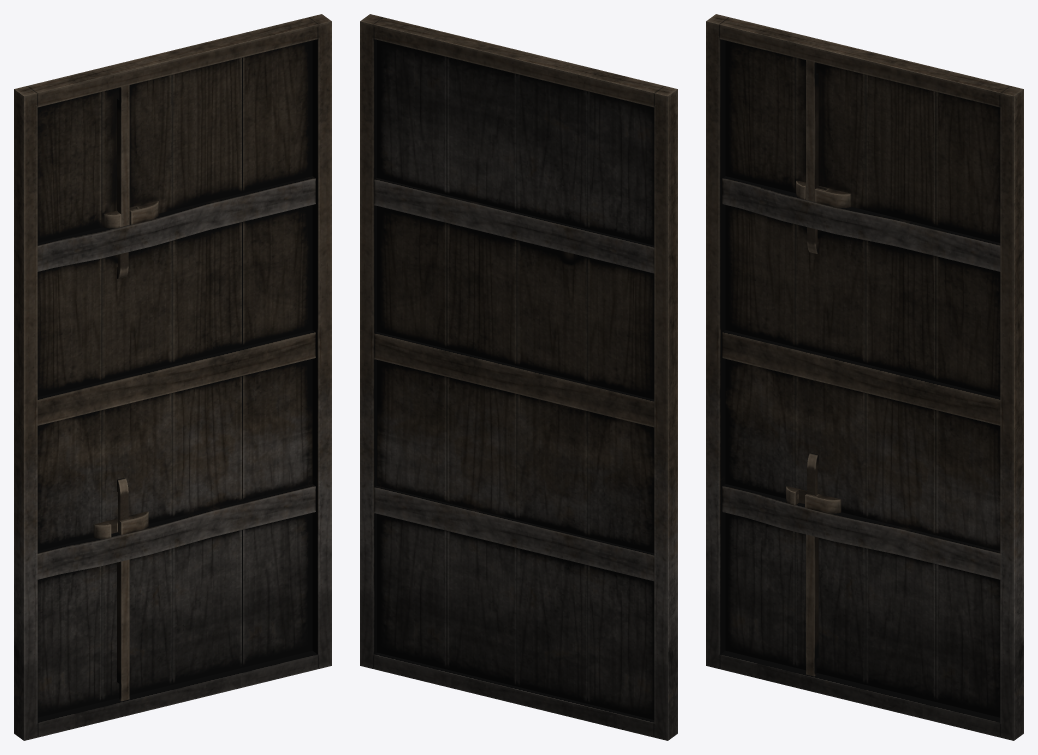
File: JB_Ext_Door_A_02.fbx
3 views of the same model, side by side, from view 1: azimuth 30°, elevation 25°; view 2: azimuth 150°, elevation 25°; view 3: azimuth 330°, elevation 25° (orthographic).
Visible parts, largest first — view 1: JB_Ext_Door_A_02; view 2: JB_Ext_Door_A_02; view 3: JB_Ext_Door_A_02.
Part boxes in pixels (left/top/right/bottom): JB_Ext_Door_A_02: left=14, top=14, right=331, bottom=740; JB_Ext_Door_A_02: left=360, top=14, right=677, bottom=740; JB_Ext_Door_A_02: left=706, top=14, right=1023, bottom=740.
Bounding box in the file's own units: 1 × 2 × 0.0575.
